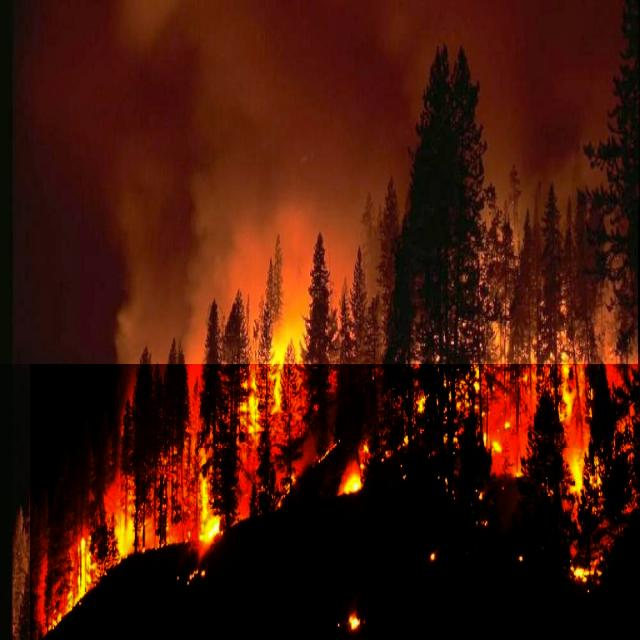Fire: (30, 207, 640, 640)
Smoke: (0, 0, 638, 364)
